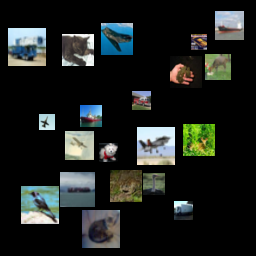airplane: (137, 127, 175, 165), (101, 23, 133, 55), (65, 131, 94, 160), (39, 114, 55, 130)
automobile: (191, 34, 207, 50)
bird: (21, 186, 59, 224), (143, 173, 165, 195)
cat: (82, 210, 120, 248), (62, 34, 94, 66)
deer: (183, 124, 215, 156), (205, 54, 231, 80)
dog: (99, 143, 118, 162)
frog: (170, 56, 202, 88), (110, 170, 142, 202)
ship: (60, 172, 95, 207), (215, 11, 244, 40), (80, 105, 102, 127)
